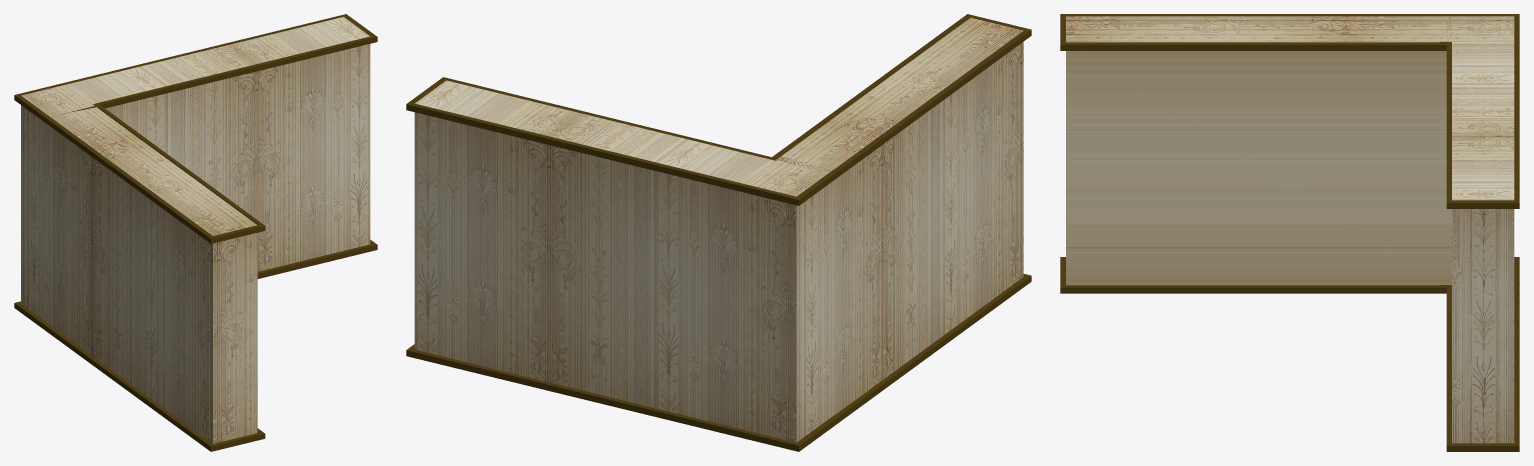
Rendered from Wall_3.fbx.
3 renders of one model, left to right at view 1: azimuth 30°, elevation 25°; view 2: azimuth 150°, elevation 25°; view 3: azimuth 270°, elevation 25°, orthographic. The views are drawn at different scales.
Visible parts, largest first — view 1: Cube.063, Cube.065, Cube.067, Cube.068, Cube.064; view 2: Cube.063, Cube.065, Cube.064, Cube.067, Cube.068; view 3: Cube.063, Cube.067, Cube.068, Cube.065, Cube.064.
Part boxes in pixels (bbox=[...]): Cube.063: bbox=[21, 17, 370, 443]; Cube.065: bbox=[14, 14, 377, 122]; Cube.067: bbox=[45, 104, 265, 243]; Cube.068: bbox=[45, 325, 265, 451]; Cube.064: bbox=[14, 240, 377, 330]; Cube.063: bbox=[414, 17, 1023, 442]; Cube.065: bbox=[406, 77, 835, 205]; Cube.064: bbox=[406, 344, 835, 451]; Cube.067: bbox=[772, 14, 1031, 178]; Cube.068: bbox=[831, 274, 1031, 424]; Cube.063: bbox=[1066, 16, 1514, 443]; Cube.067: bbox=[1060, 14, 1446, 50]; Cube.068: bbox=[1060, 257, 1446, 293]; Cube.065: bbox=[1446, 14, 1519, 208]; Cube.064: bbox=[1446, 257, 1519, 451].
Bounding box in the file's own units: 1435 × 880 × 1472.
